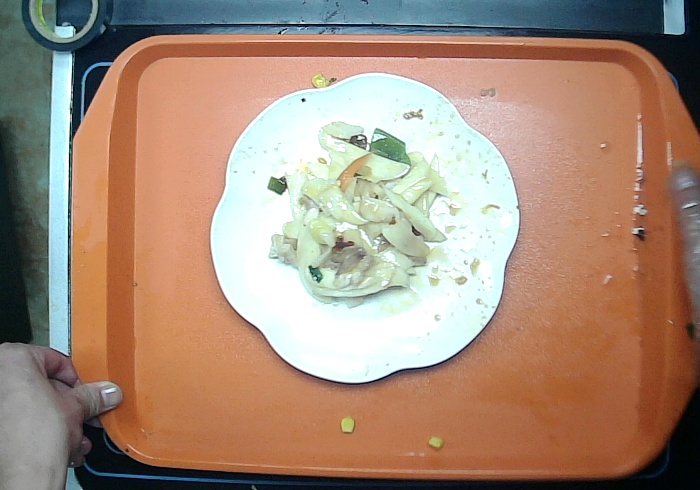HZYJPL-Bai_Se_Hua_Duo_Wan: (205, 68, 521, 390)
